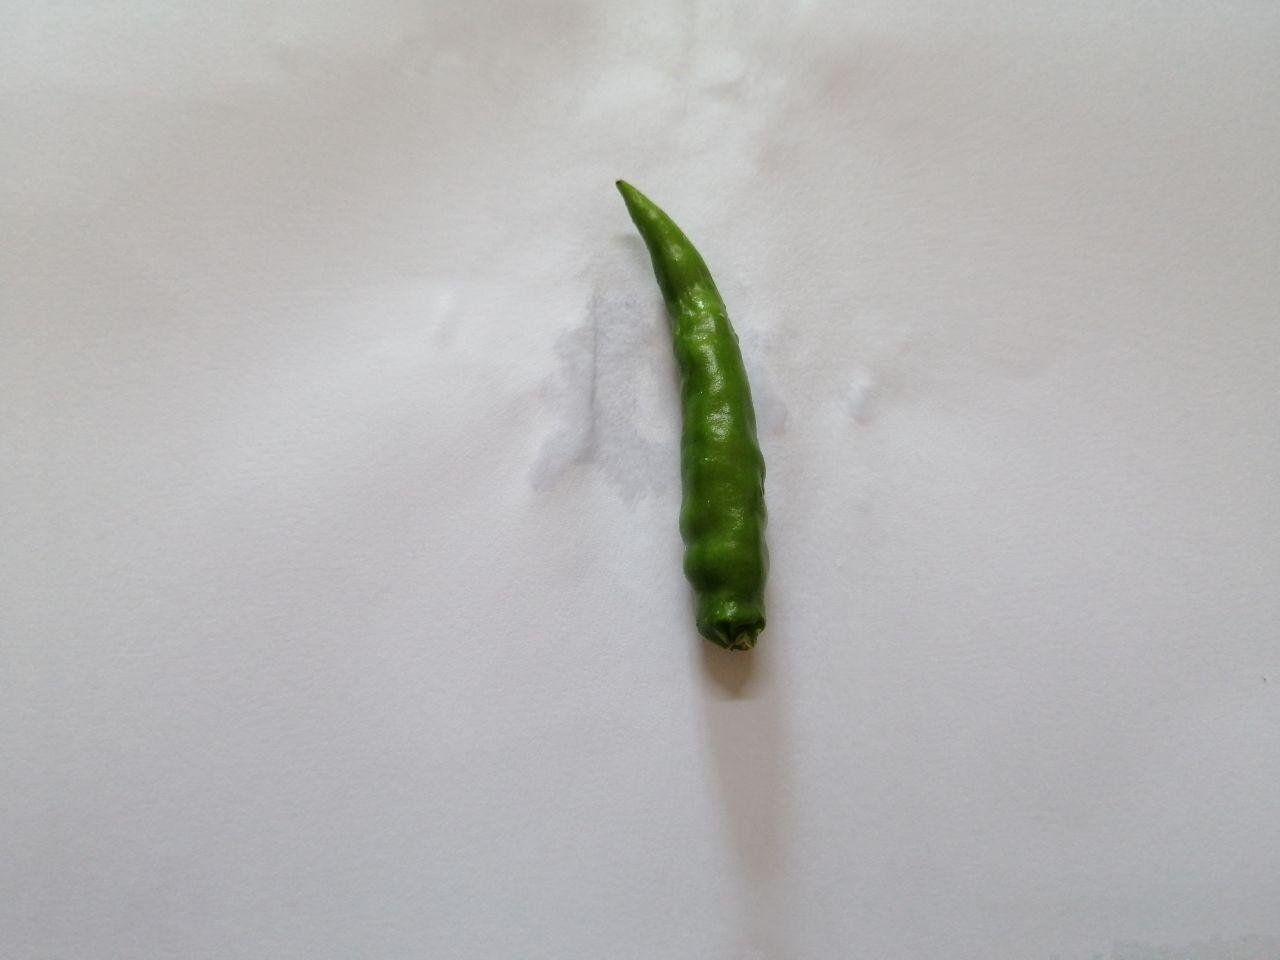lada hijau: (596, 169, 825, 672)
